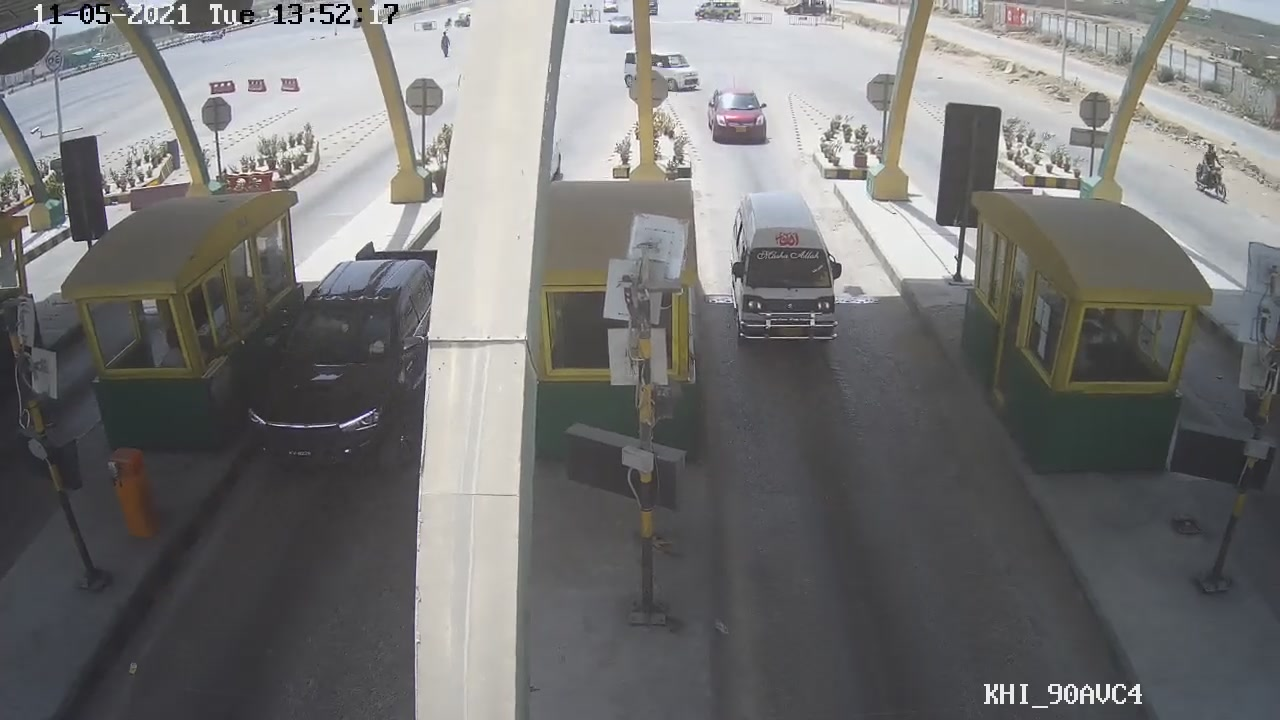F1: (721, 181, 851, 353)
